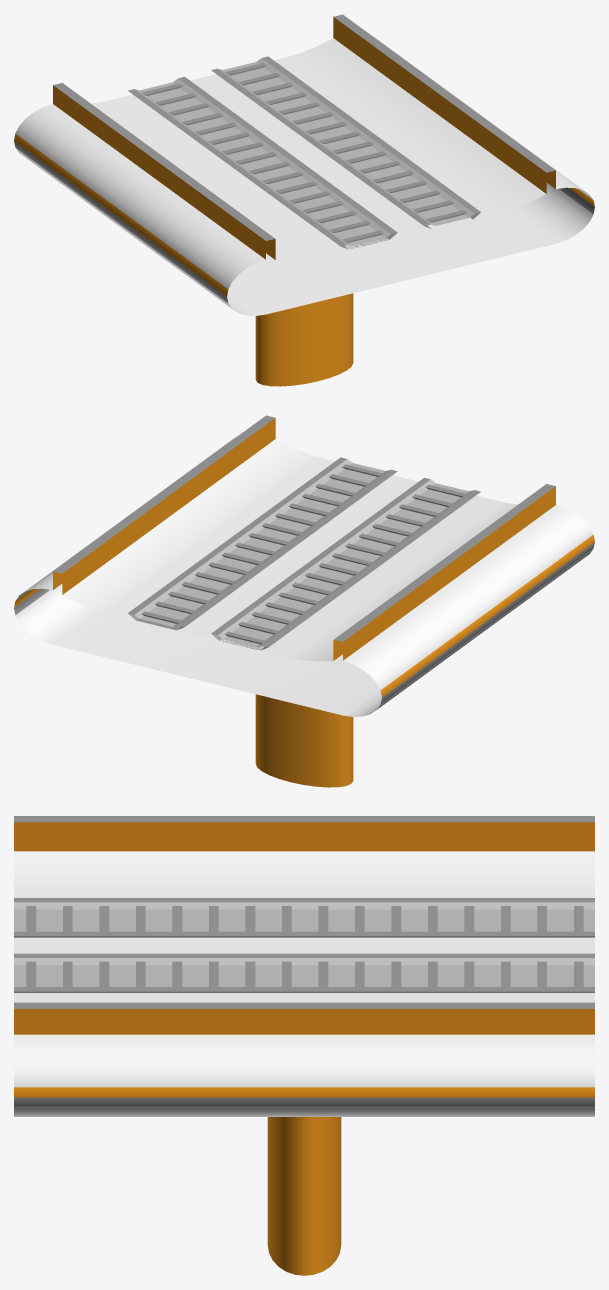
3 views of the same model, one above another, from view 1: azimuth 30°, elevation 25°; view 2: azimuth 150°, elevation 25°; view 3: azimuth 270°, elevation 25° (orthographic). The views are drawn at different scales.
Parts seen in each view (by area): view 1: Group_001, Group#1_001, Group#1_002; view 2: Group_001, Group#1_002, Group#1_001; view 3: Group_001, Group#1_002, Group#1_001.
Boxes of the visible parts, <box> form: Group_001: <box>14,14,594,386</box>; Group#1_001: <box>128,76,397,249</box>; Group#1_002: <box>211,56,480,228</box>; Group_001: <box>14,415,594,787</box>; Group#1_002: <box>128,457,397,630</box>; Group#1_001: <box>211,477,480,650</box>; Group_001: <box>14,816,594,1275</box>; Group#1_002: <box>14,953,594,992</box>; Group#1_001: <box>14,898,594,937</box>.
Size of the model in its own units: 2022 by 1280 by 2028.
